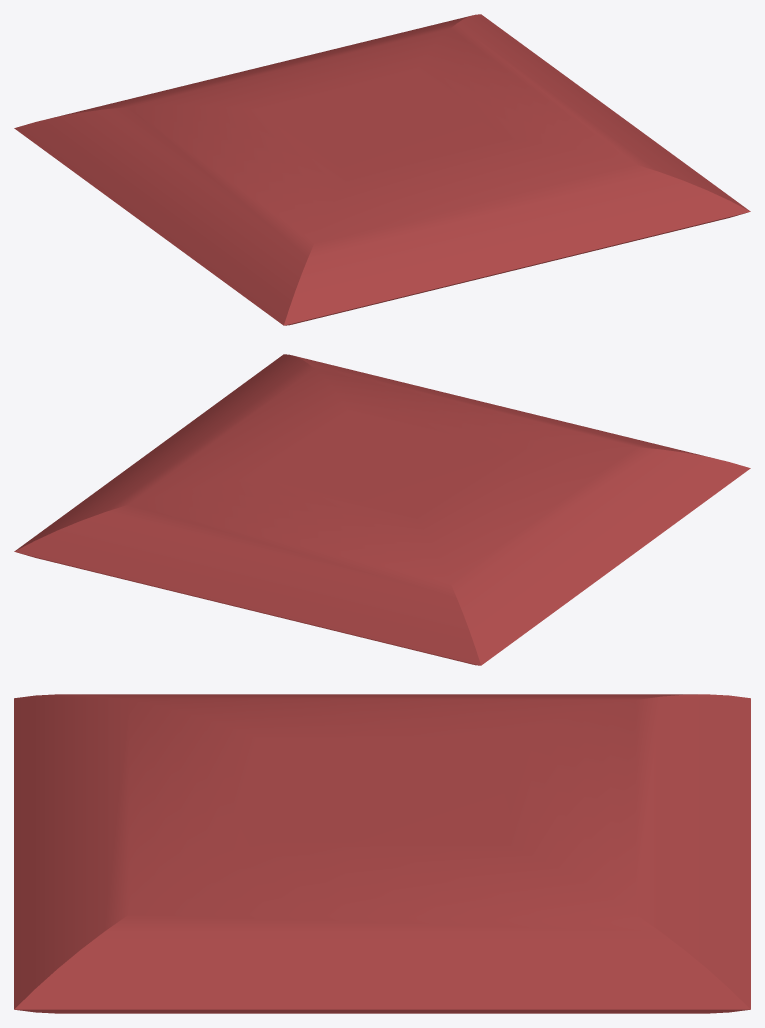
Rendered from cushion.fbx.
3 views of the same model, one above another, from view 1: azimuth 30°, elevation 25°; view 2: azimuth 150°, elevation 25°; view 3: azimuth 270°, elevation 25° (orthographic). The views are drawn at different scales.
Visible parts, largest first — view 1: pCube1; view 2: pCube1; view 3: pCube1.
Boxes of the visible parts, left/top/right/bottom form: pCube1: left=14, top=14, right=750, bottom=325; pCube1: left=14, top=354, right=750, bottom=665; pCube1: left=14, top=694, right=750, bottom=1013.
Size of the model in its own units: 1 by 0.1875 by 1.
